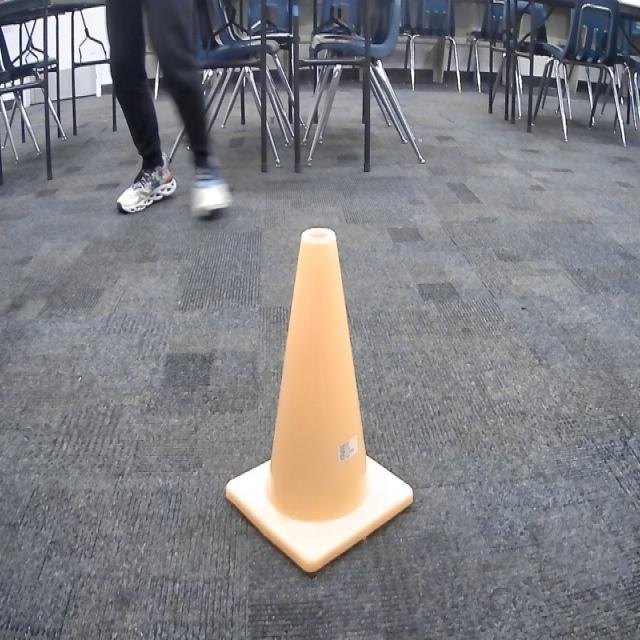cone: (222, 222, 415, 578)
